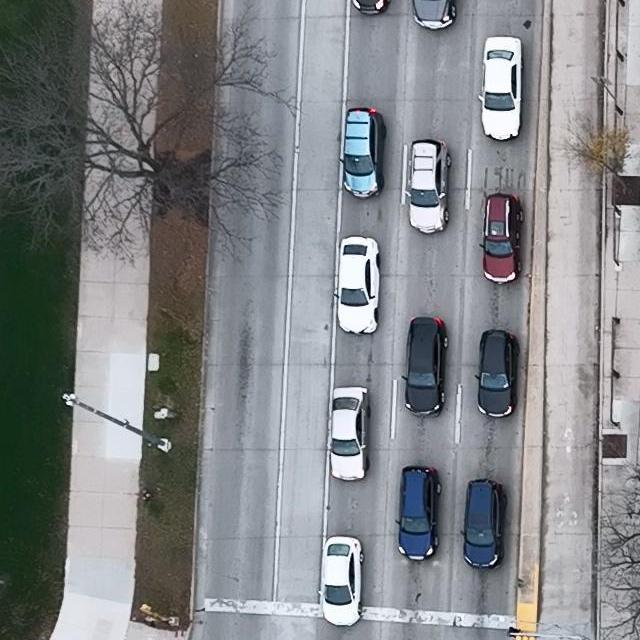car: (400, 316, 447, 418), (478, 35, 523, 141), (332, 236, 380, 335), (404, 139, 453, 235), (393, 465, 441, 563), (459, 477, 507, 569), (338, 106, 385, 198), (317, 535, 364, 626), (326, 384, 369, 482), (479, 193, 524, 286), (475, 328, 519, 419), (411, 0, 456, 31), (350, 0, 392, 16)
